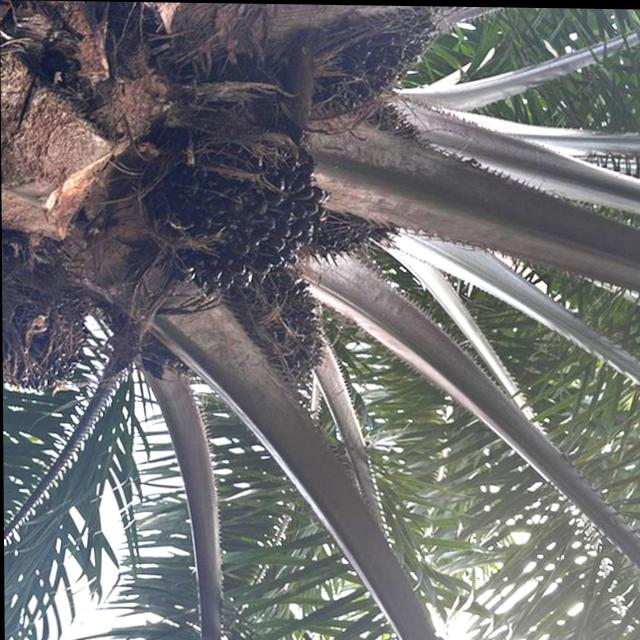unripe: (143, 120, 332, 290), (312, 4, 453, 115), (203, 271, 327, 395), (2, 252, 89, 397)
